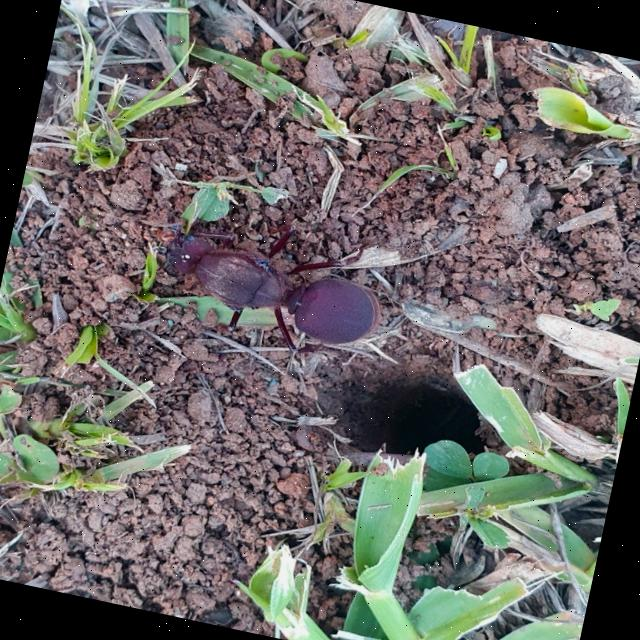Alive-Female-Dealate: (160, 204, 396, 368)
